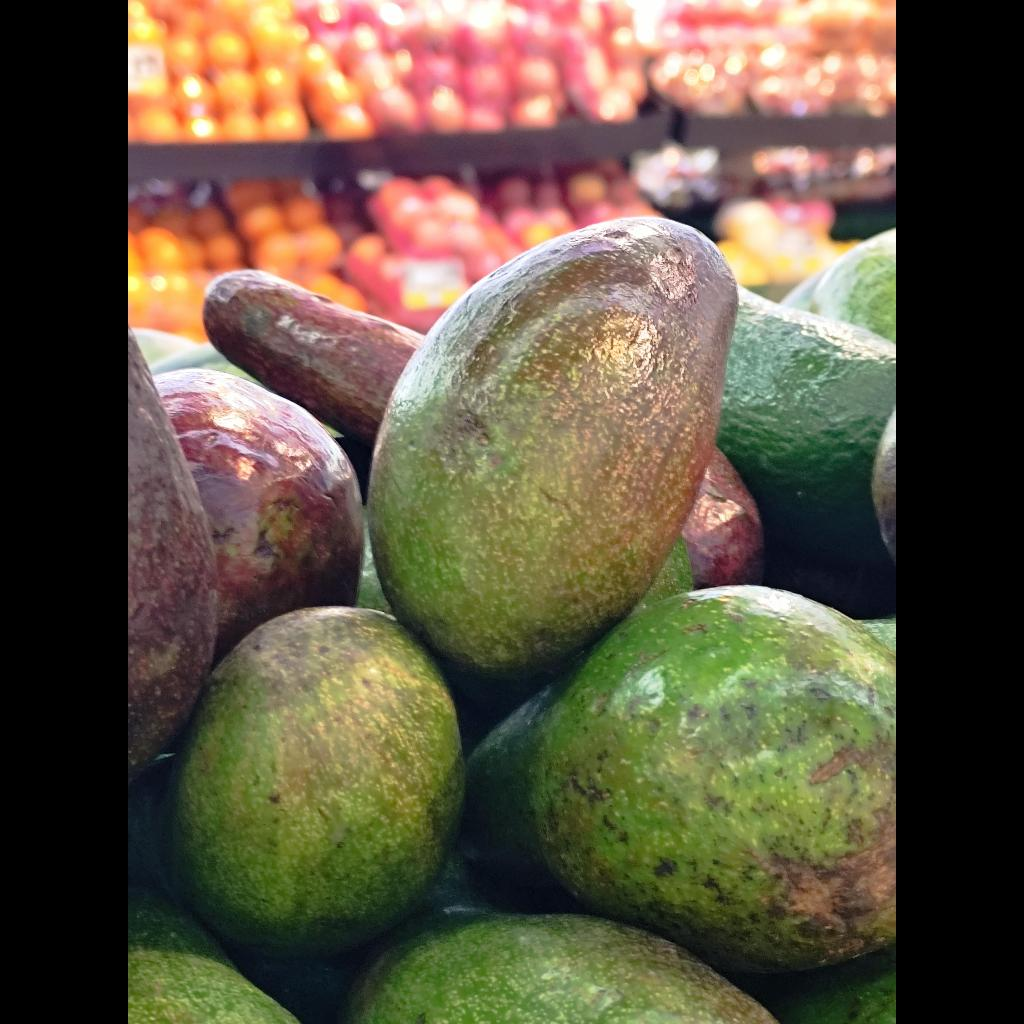healthy: (166, 607, 464, 955)
scab: (467, 586, 896, 971)
stem end rot: (369, 218, 738, 709)
